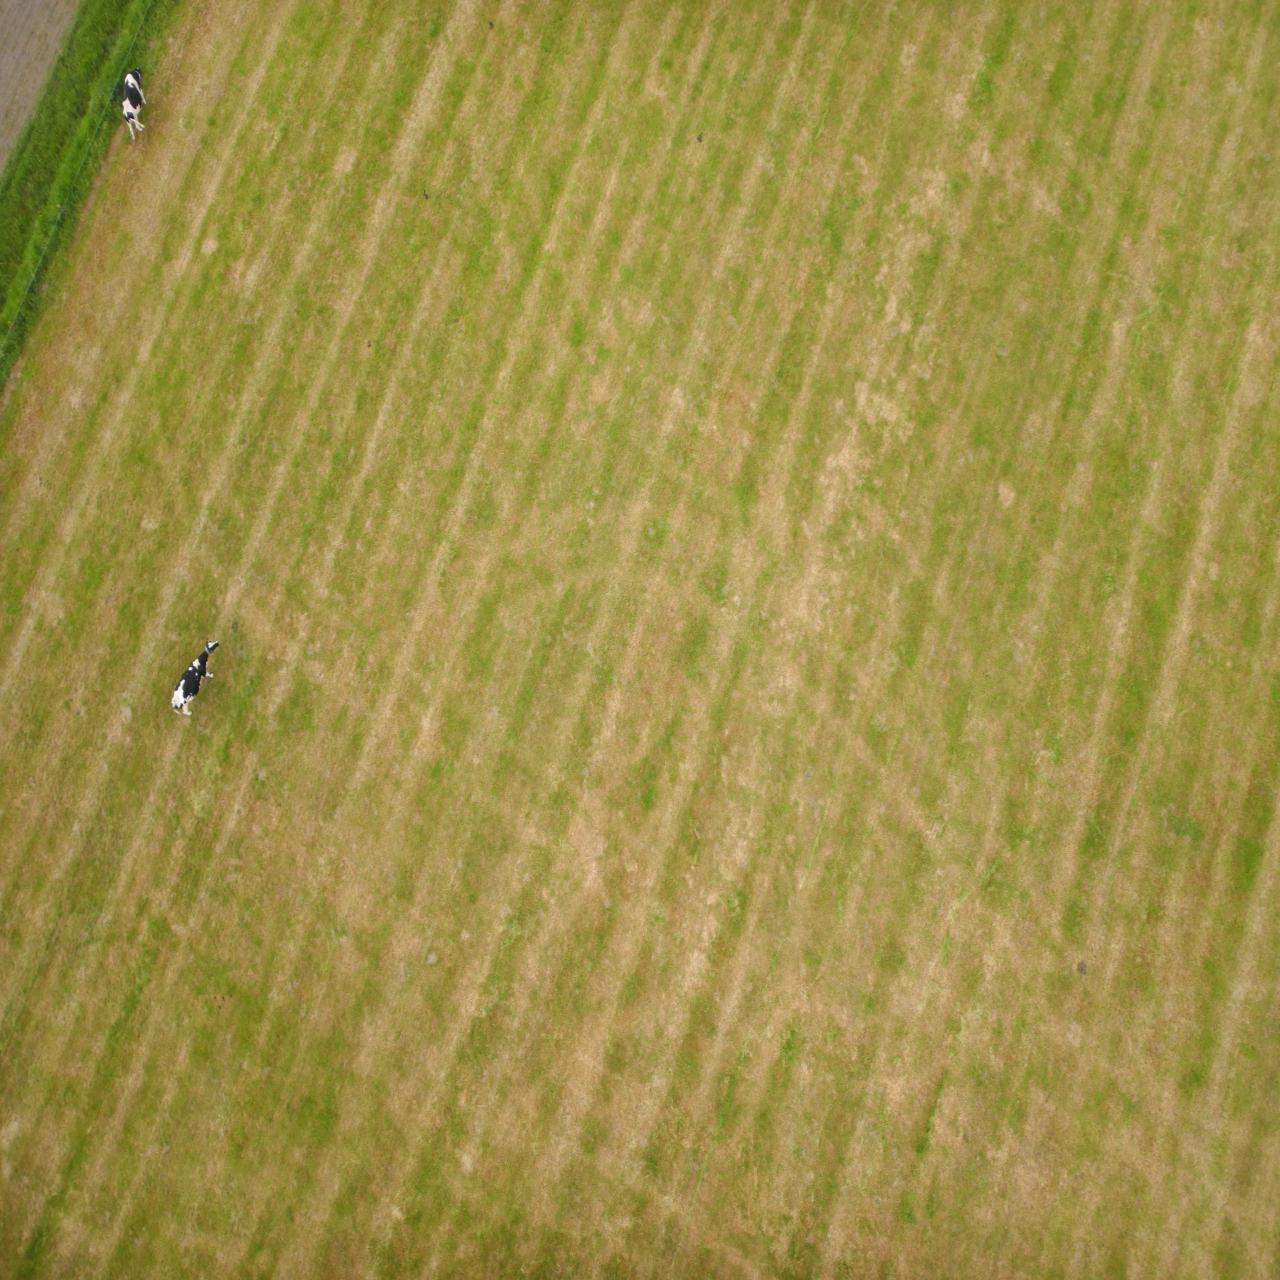cow: (1062, 564, 1109, 640), (1135, 1139, 1158, 1213)
